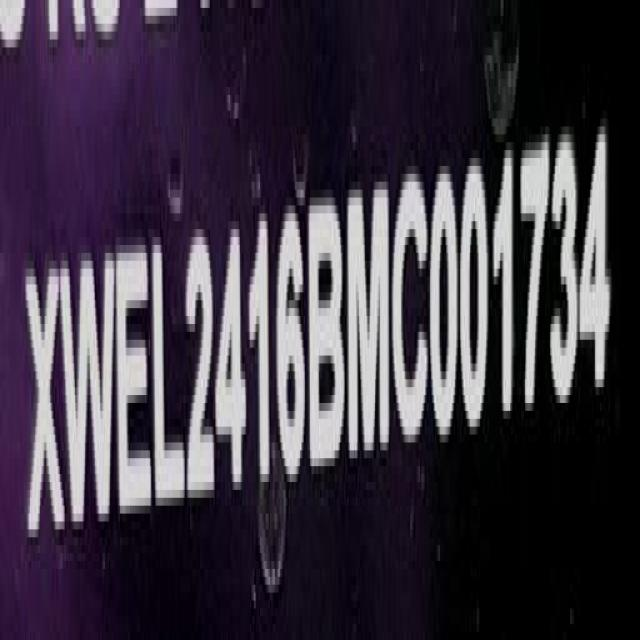0: (462, 156, 492, 445), (432, 162, 461, 450)
1: (492, 134, 518, 434), (252, 210, 274, 496)
2: (187, 225, 217, 517)
3: (550, 125, 578, 420)
4: (582, 116, 615, 409), (215, 221, 248, 504)
6: (276, 198, 308, 490)
7: (520, 126, 548, 428)
B: (308, 187, 346, 478)
C: (393, 167, 433, 456)
E: (117, 237, 154, 535)
L: (153, 228, 184, 524)
M: (348, 172, 392, 468)
W: (64, 244, 117, 544)
X: (27, 252, 66, 558)
